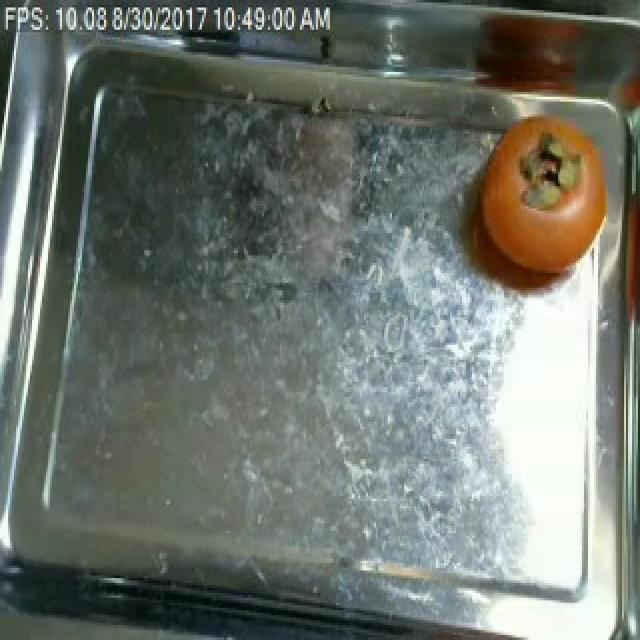Fruit: (476, 104, 616, 280)
